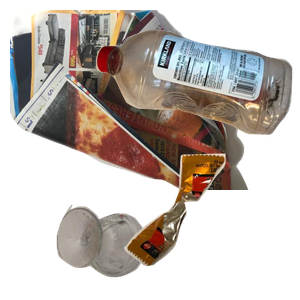glass: (54, 202, 193, 300)
paper: (10, 10, 250, 190)
plastic: (93, 27, 300, 154)
trash: (122, 151, 300, 300)
